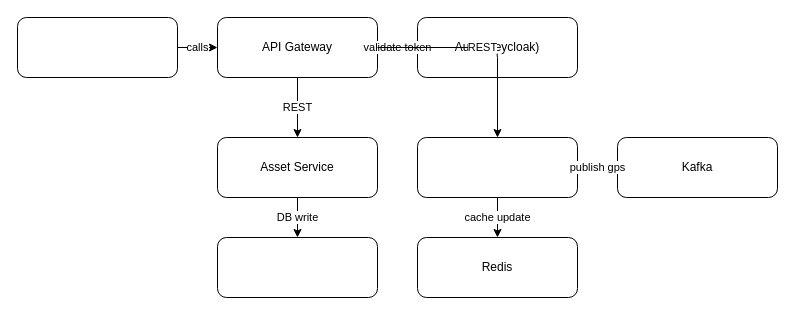
Image size: 795x315. Some labels were removed from this diagram. Each missing label, with the centre of its shape:
"Clients" belongs at point (97, 47).
"Postgres" belongs at point (297, 267).
"Tracking Service" belongs at point (497, 167).
